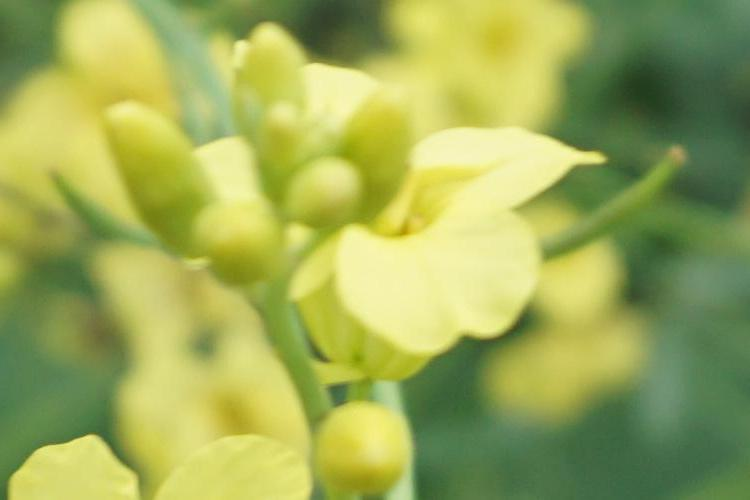bud: (111, 113, 213, 245), (219, 31, 299, 128), (316, 401, 408, 485), (195, 204, 284, 282), (346, 98, 410, 206), (289, 166, 361, 223), (254, 107, 293, 175)
yellow: (228, 72, 585, 354), (117, 248, 289, 452), (18, 424, 290, 497)
